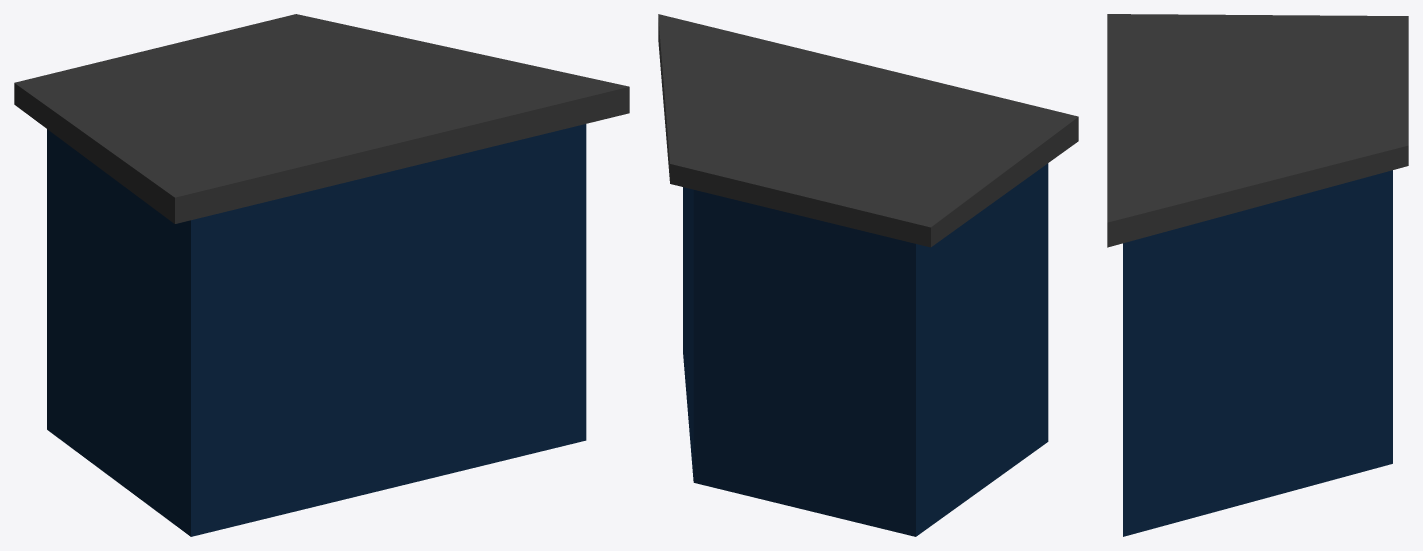
The model's file is ceiling1.fbx.
3 renders of one model, left to right at view 1: azimuth 30°, elevation 25°; view 2: azimuth 150°, elevation 25°; view 3: azimuth 270°, elevation 25°, orthographic. The views are drawn at different scales.
Parts seen in each view (by area): view 1: Techo1; view 2: Techo1; view 3: Techo1.
Part boxes in pixels (box(x1,y1,x2,y2)): Techo1: box(14, 14, 629, 536); Techo1: box(658, 14, 1078, 536); Techo1: box(1107, 14, 1408, 536).
Size of the model in its own units: 2261 by 1668 by 1380.
